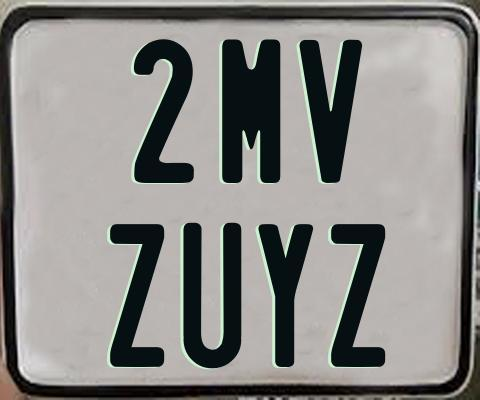2: (131, 39, 196, 183)
M: (221, 37, 284, 185)
U: (180, 221, 243, 372)
V: (296, 40, 361, 187)
Y: (255, 222, 311, 367)
Z: (328, 222, 387, 371), (108, 223, 166, 369)
